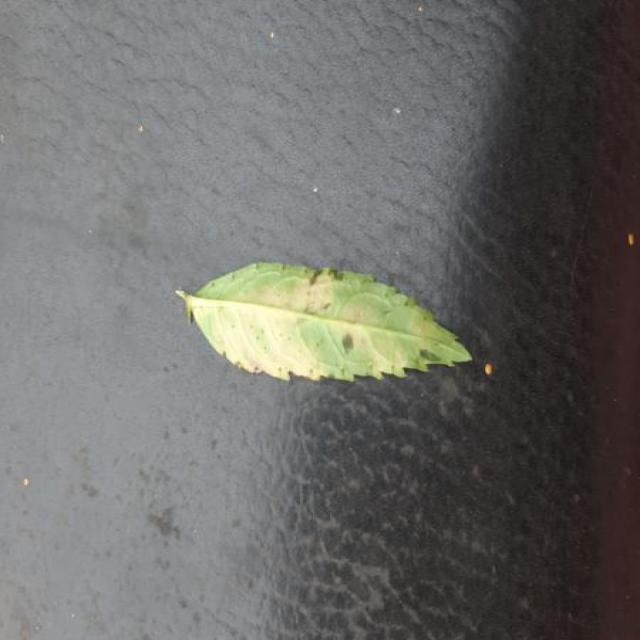leaf spot: (177, 262, 472, 381)
marigold: (177, 262, 472, 381)
